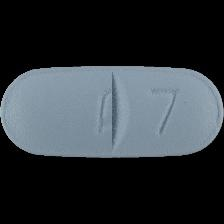66116-376: (0, 0, 224, 224)
